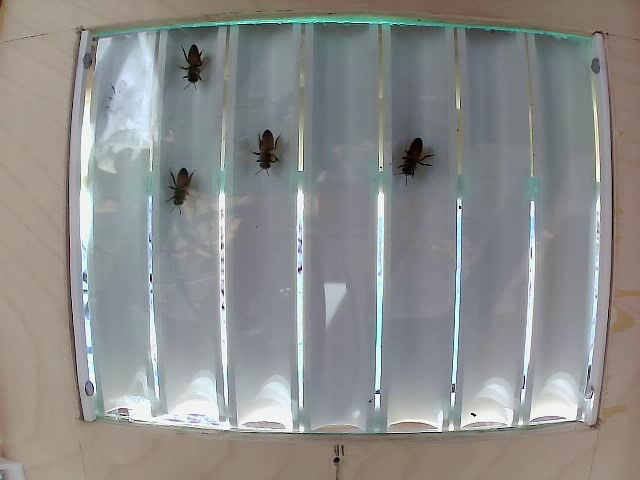bee: (387, 131, 448, 195), (171, 41, 221, 89), (156, 168, 204, 212), (252, 129, 291, 183)
